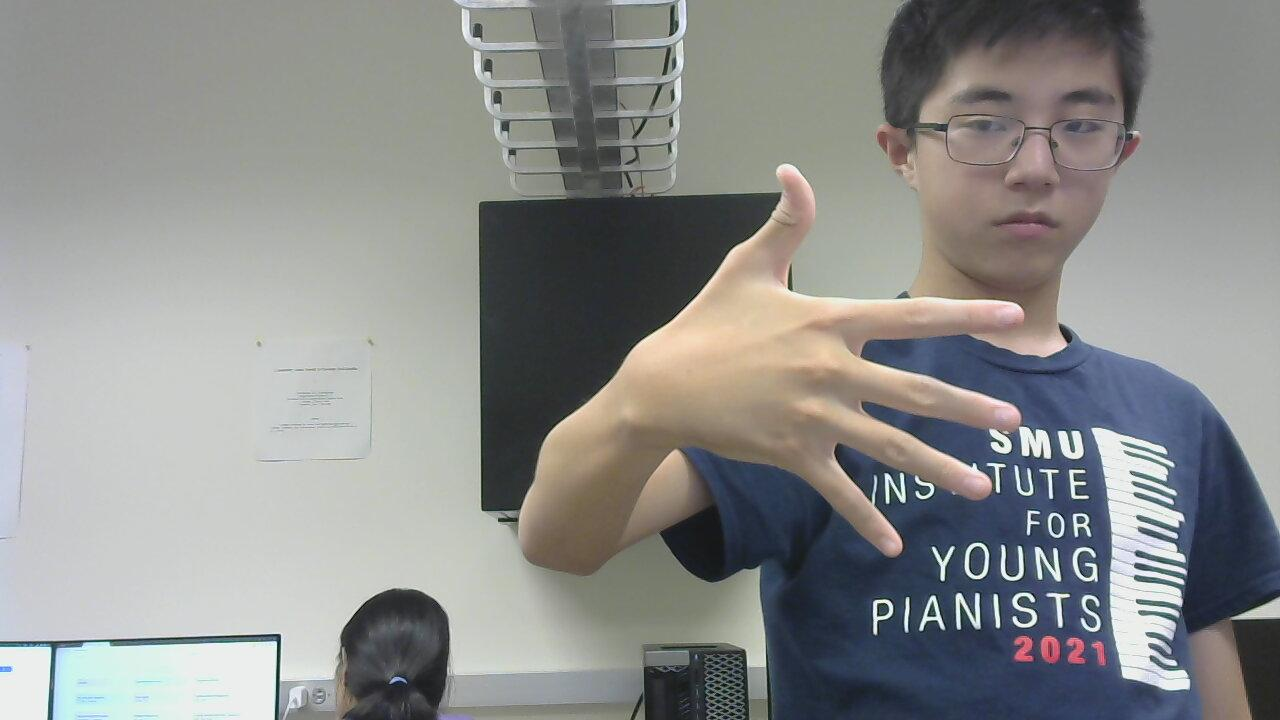hands: (586, 164, 1042, 561)
